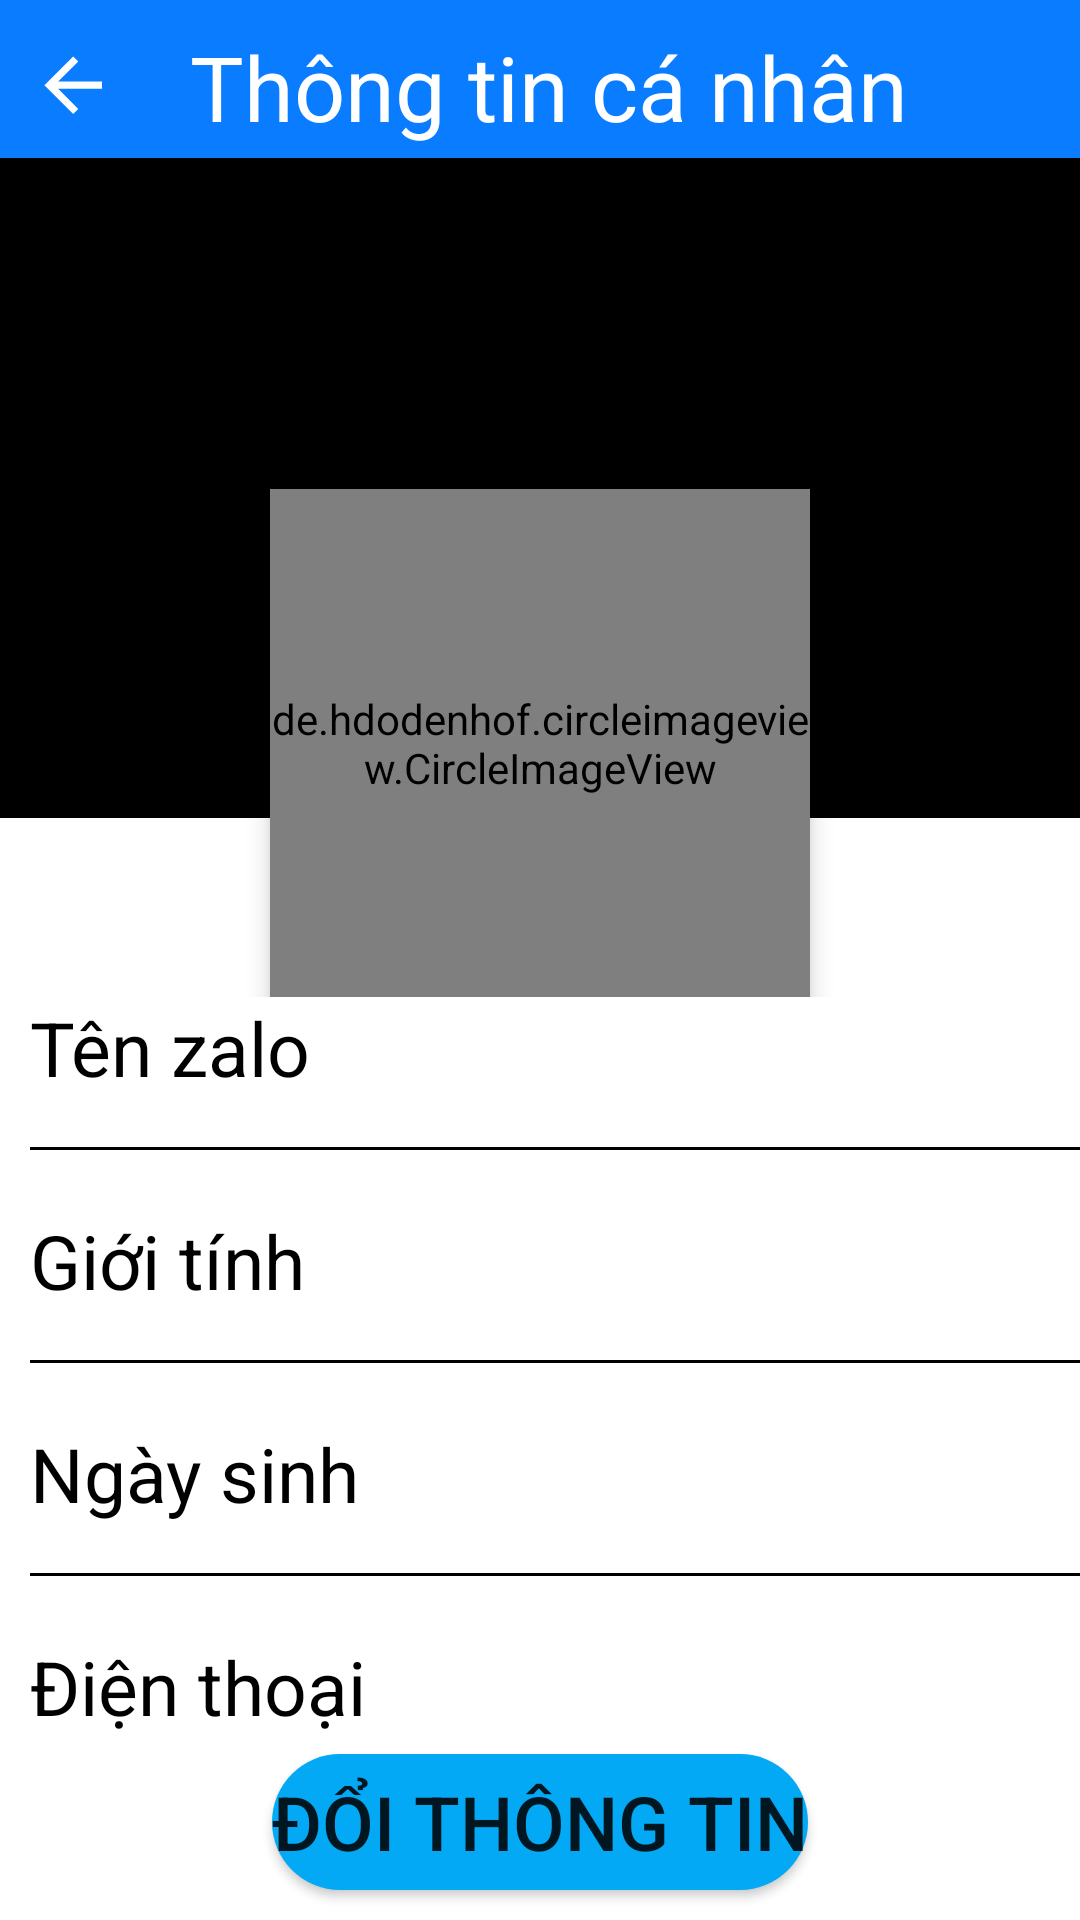

Screen size 1080 × 1920. Icon name, then its box in pixels as (x1, y1, x2, y2):
back: (44, 56, 102, 114)
